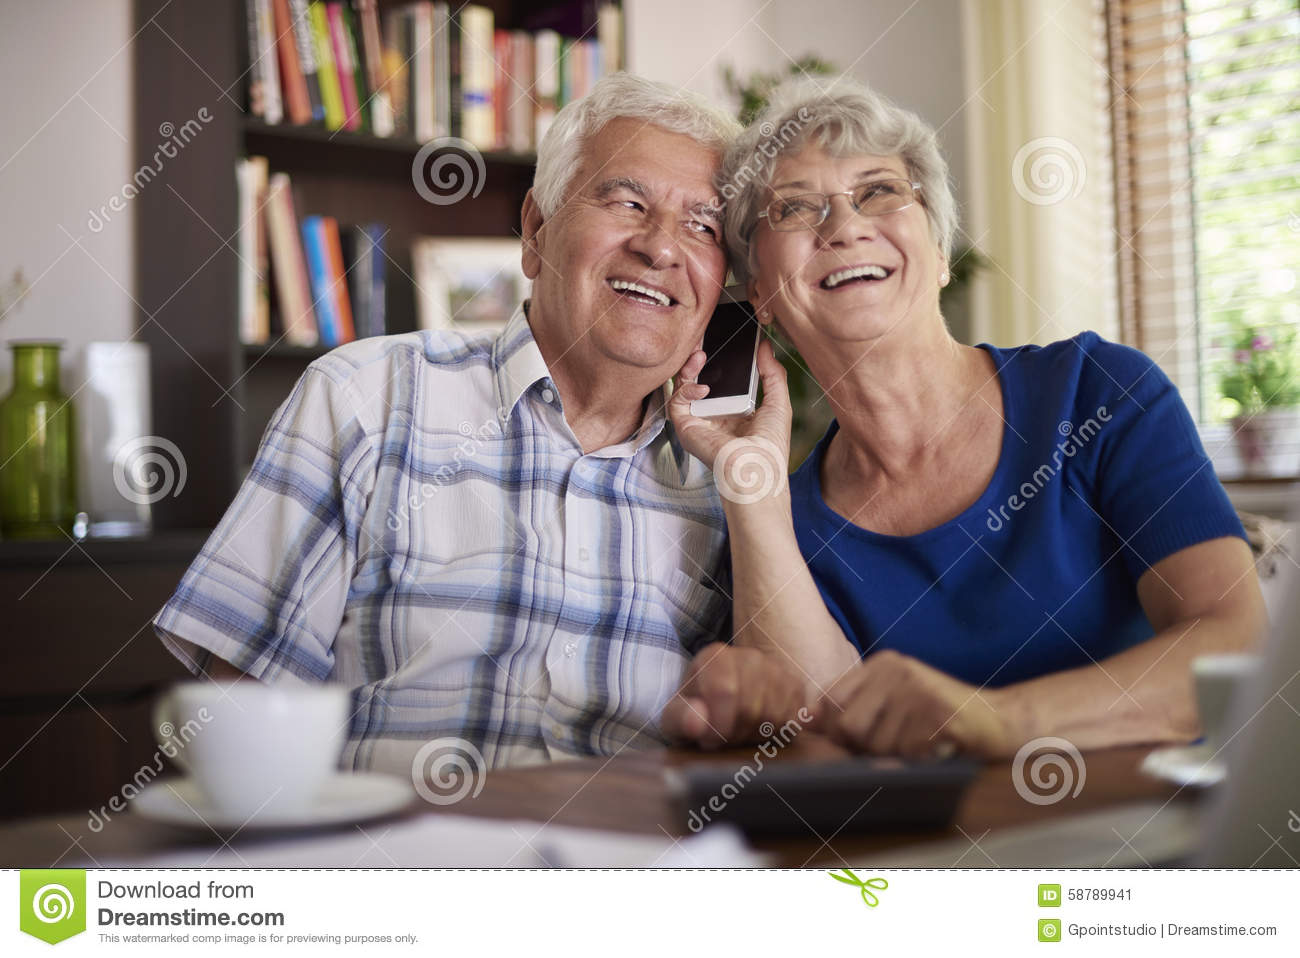phone: (695, 274, 763, 424)
talk: (578, 172, 794, 511)
